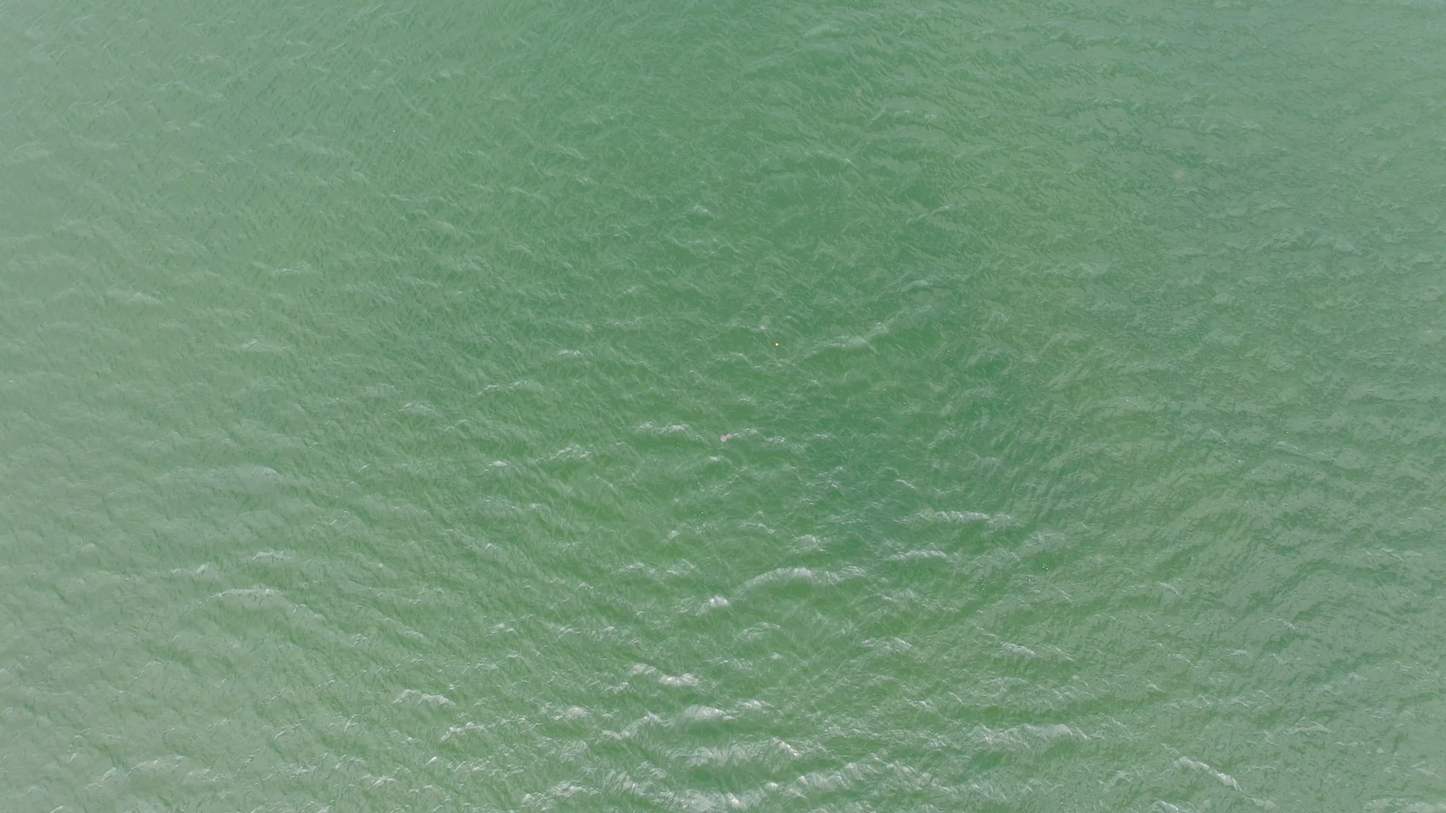meduse: (720, 433, 732, 445), (1171, 170, 1184, 181), (366, 626, 379, 636), (373, 67, 384, 77), (924, 279, 933, 289), (926, 509, 934, 519)
